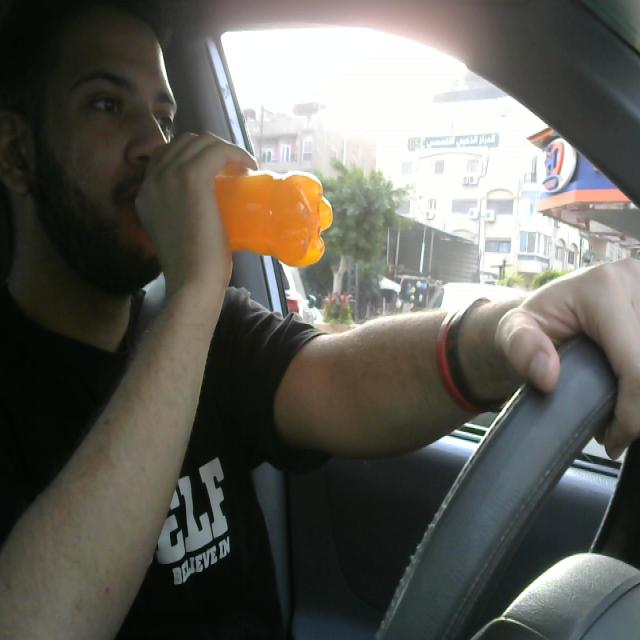drinking: (140, 156, 335, 267)
